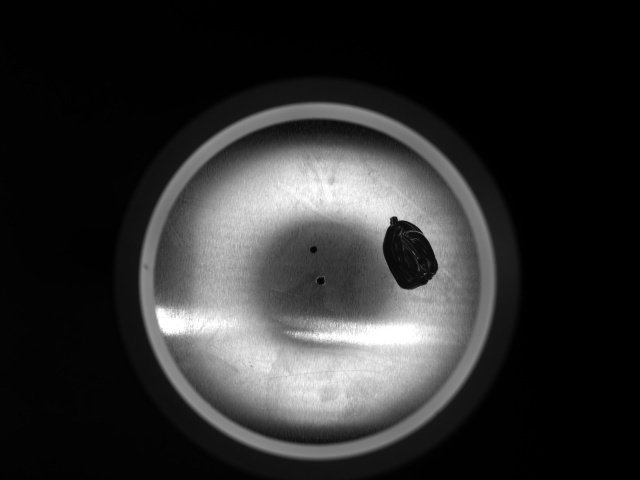zang_wu: (380, 216, 437, 289)
zhen_kong: (313, 274, 326, 286), (308, 243, 319, 254)
